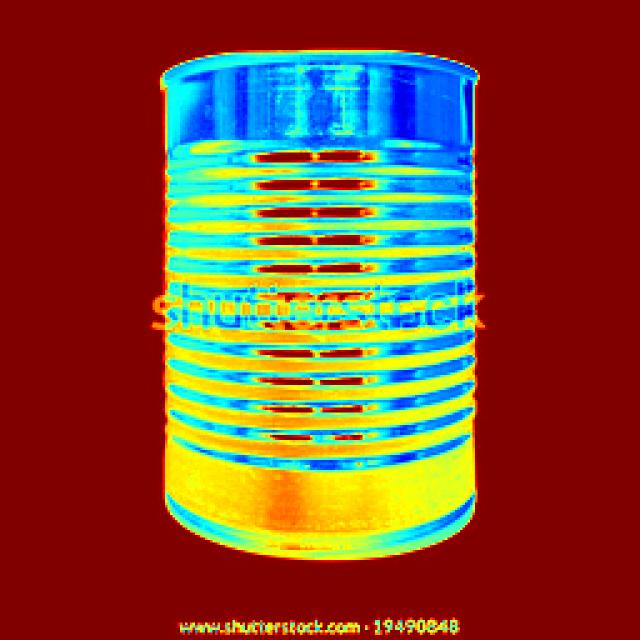Aluminium Food Cans: (140, 41, 510, 570)
